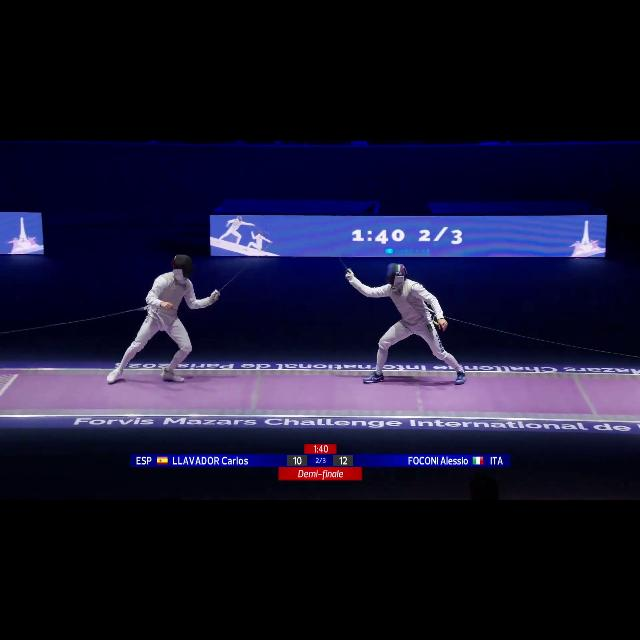blade: (205, 240, 278, 298)
